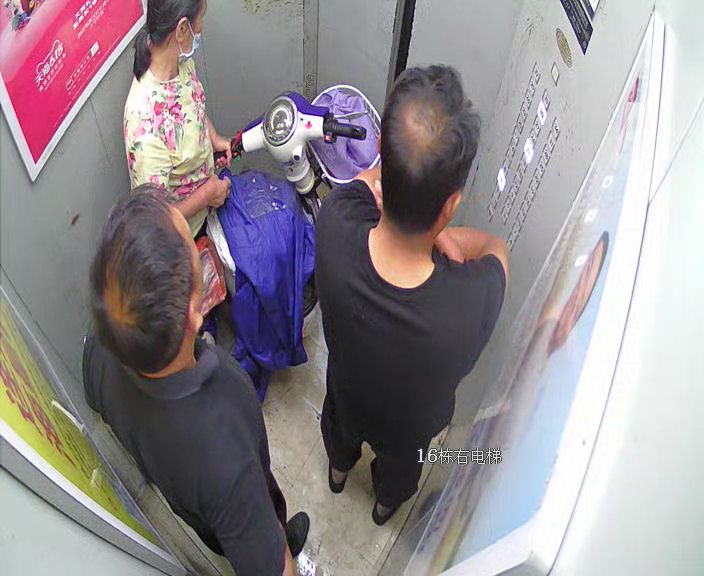Electric-bicycle: (190, 82, 380, 331)
